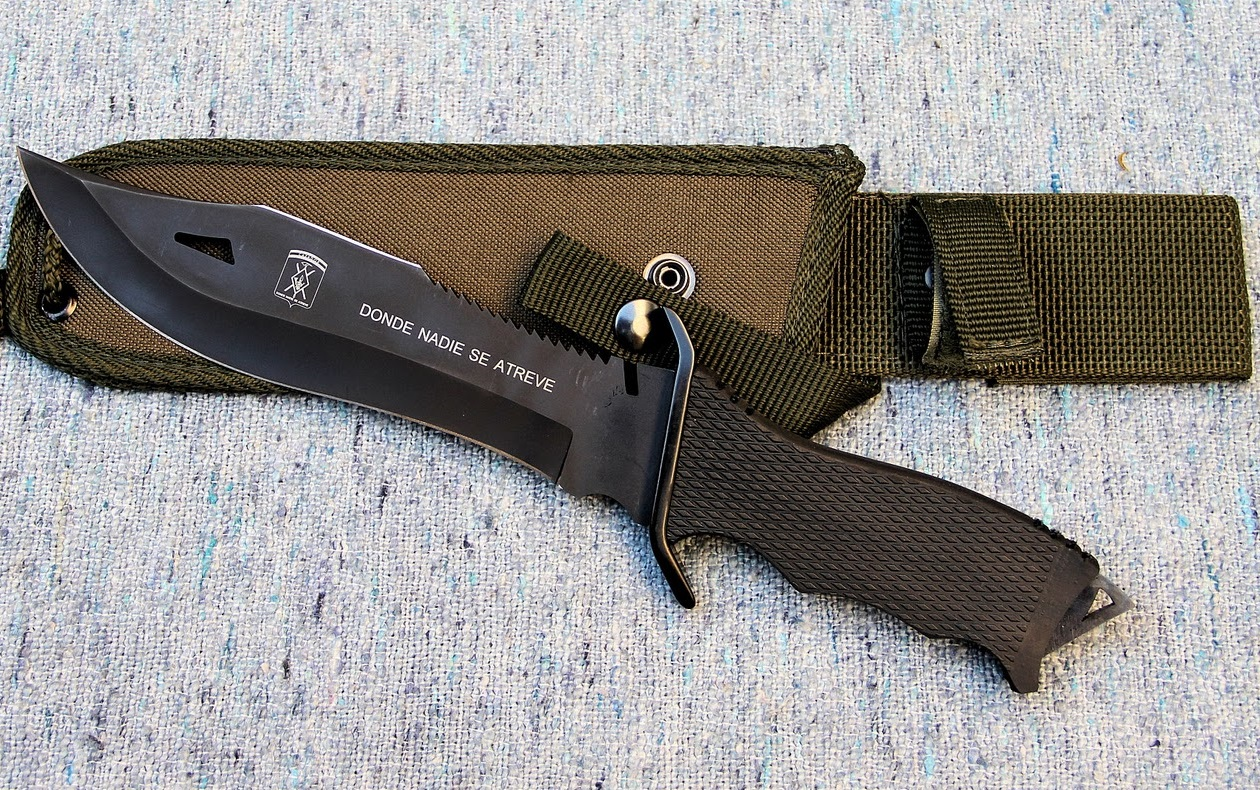knife: (1, 132, 624, 531)
